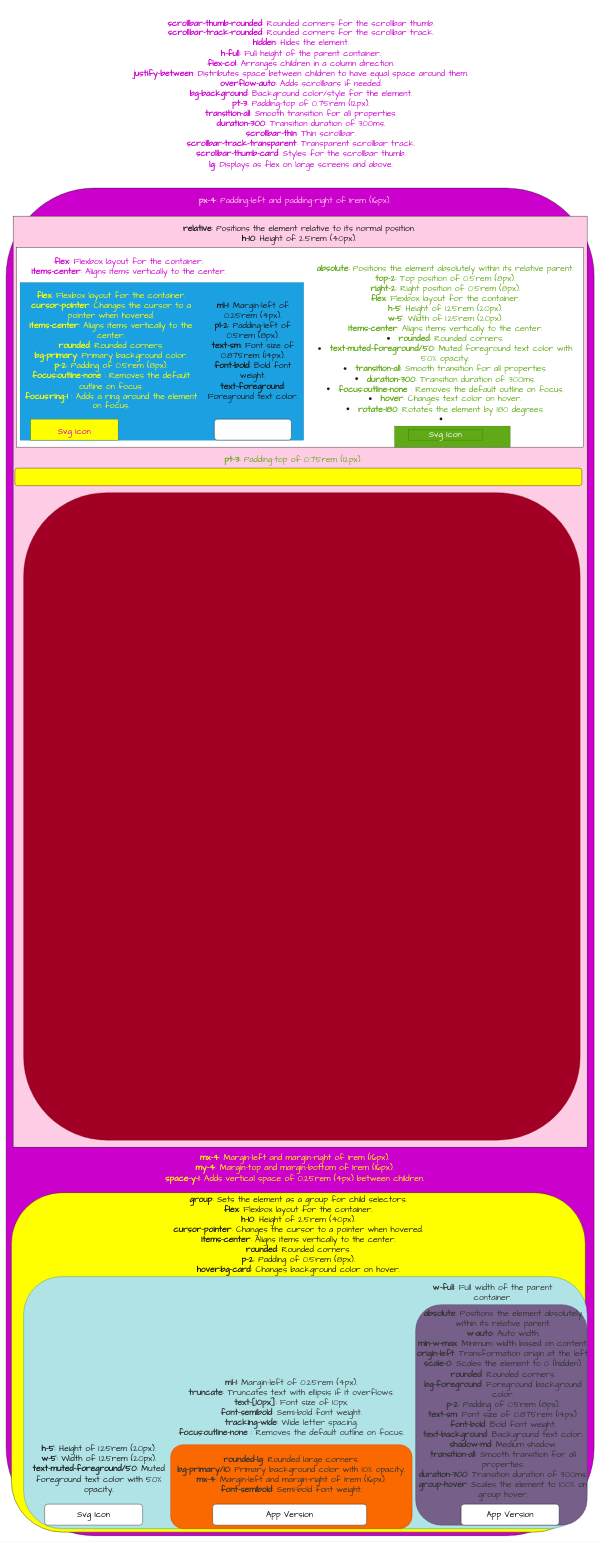
This 600x1542 diagram has some shape labels left out. The shapes that lost their labels are listed below. From the top down, each one's centre as x and y in pixels, then its label:
[252,429]: Art Stream
[298,477]: border-dashed : Dashed border style. border-muted : Muted border color.
[301,816]: App Side Bar Menu
